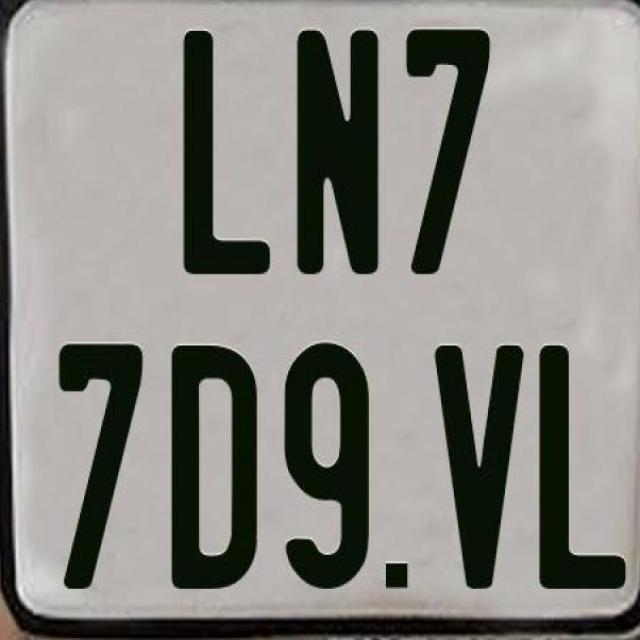license-plate: (4, 10, 640, 620)
